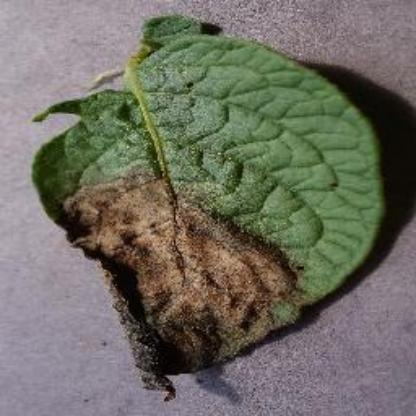Late-Blight: (21, 10, 395, 398)
